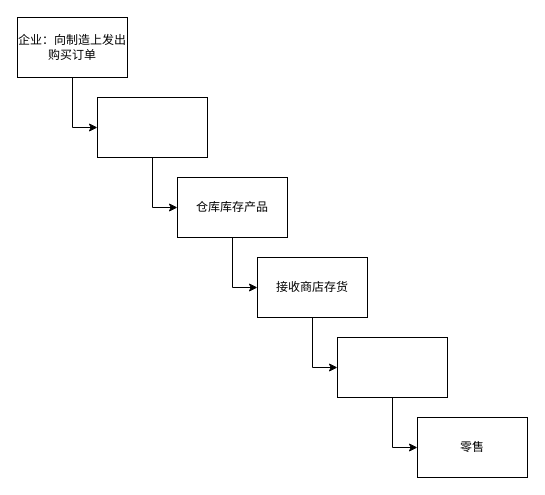
This 545x495 diagram has some shape labels left out. The centre of each missing label's shape, as x and y in pixels:
"企业：接收仓库存货" belongs at pixel 152 127.
"商店库存产品" belongs at pixel 392 367.
